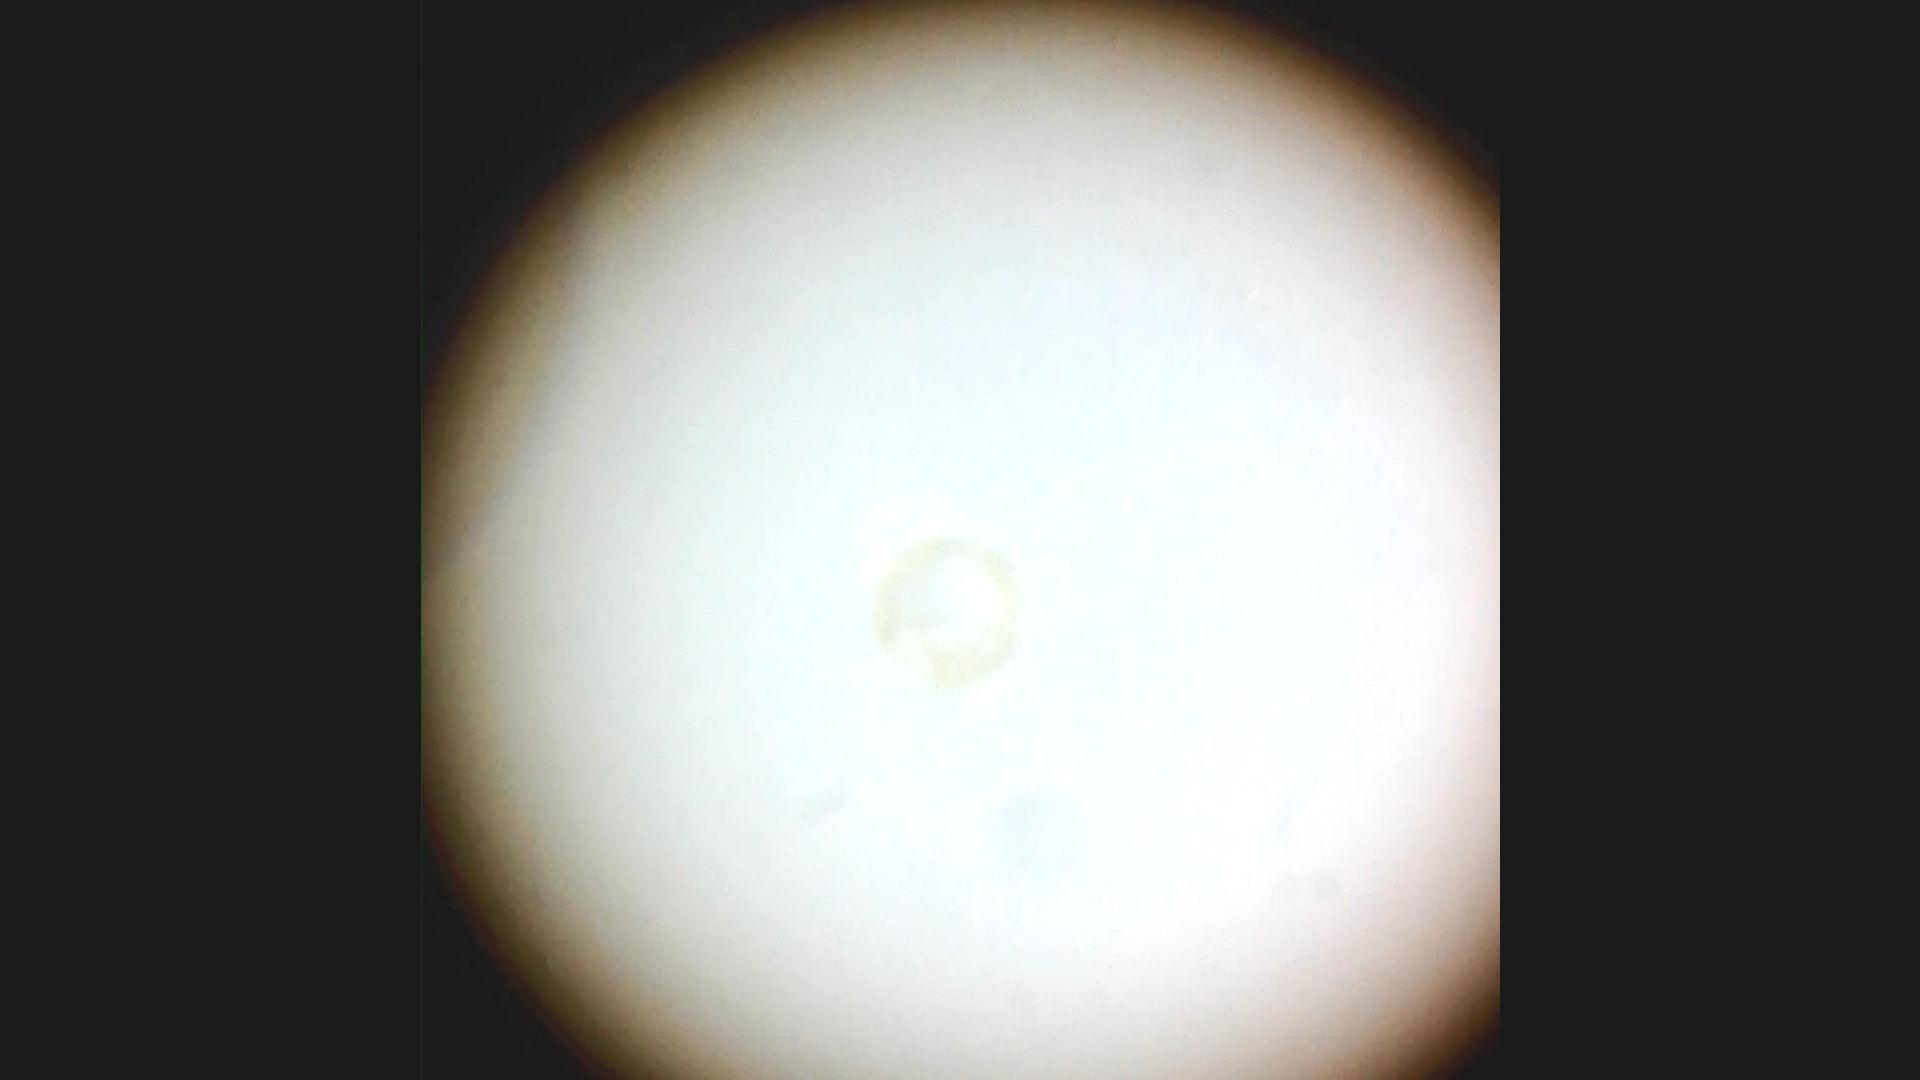alexandrium minutum: (852, 516, 1050, 712)
